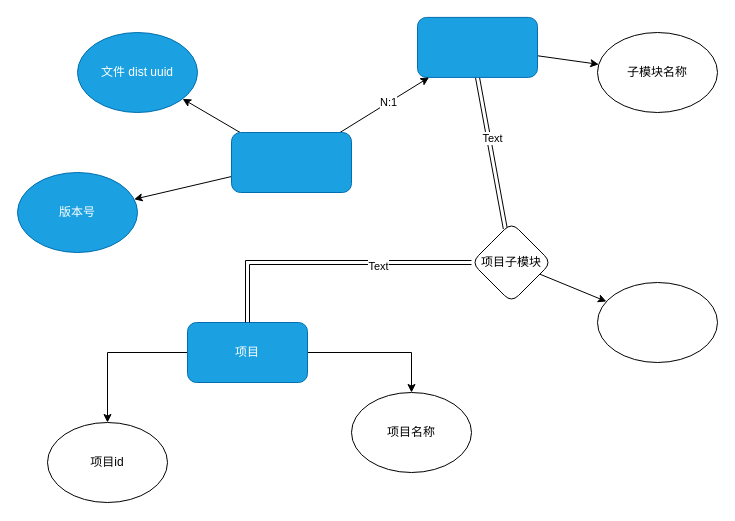
Some shapes in this 735 by 521 pixel diagram are drawn without their labels. The centre of each missing label's shape, as x and y in pixels:
"子模块" goes at [477,46].
"子模块版本" goes at [291,162].
"子模块版本号" goes at [657,322].
